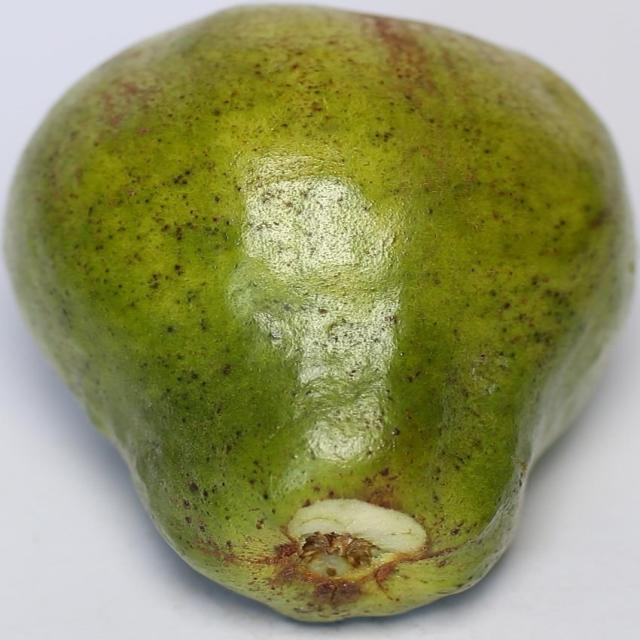Good_Guava: (2, 3, 637, 627)
